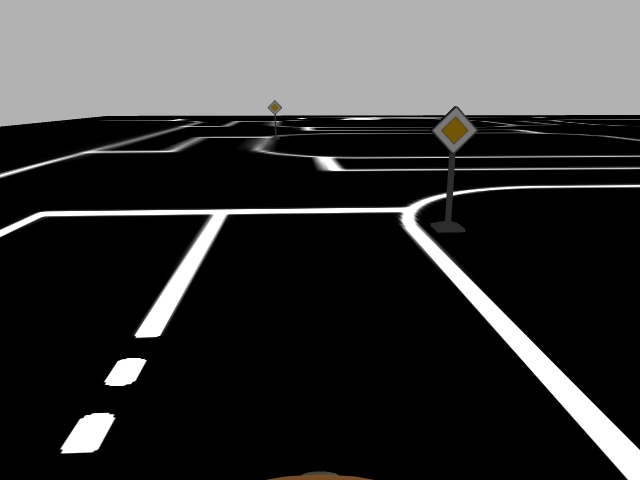priority: (428, 105, 479, 154), (266, 98, 284, 116)
